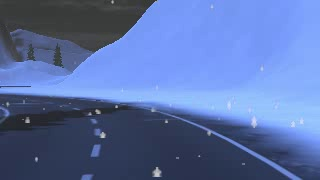Lane: (0, 93, 303, 179)
